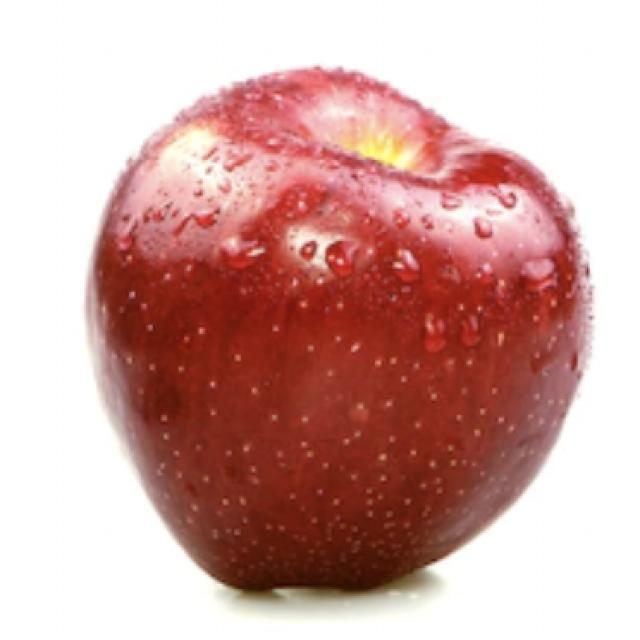Fresh Apple: (78, 65, 590, 587)
